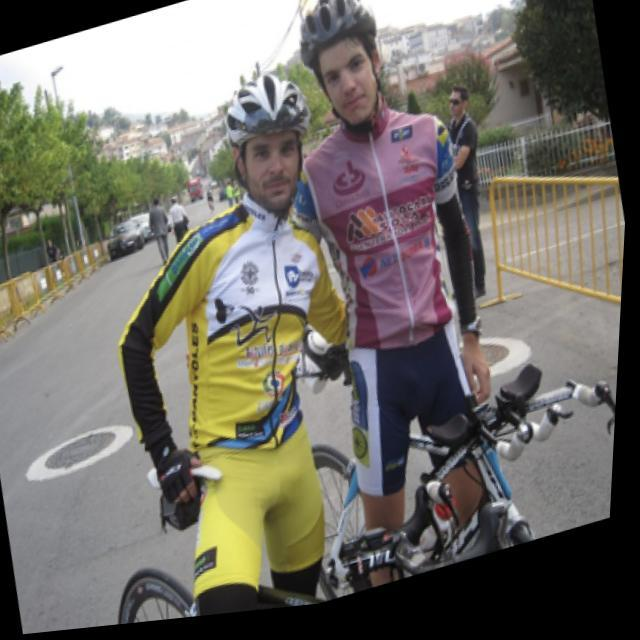Helmet: (292, 0, 392, 144), (219, 64, 310, 220)
